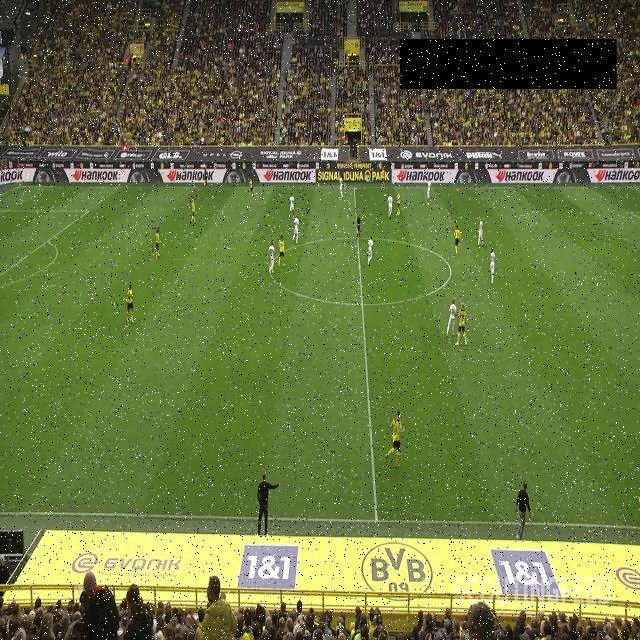Ball: (251, 193, 254, 197)
Referee: (356, 212, 362, 242), (203, 167, 208, 187)
TEAM 1: (386, 410, 406, 468), (454, 302, 468, 346), (126, 284, 135, 324), (278, 234, 286, 267), (454, 223, 461, 255), (155, 227, 161, 261), (190, 196, 197, 225), (248, 176, 256, 196), (380, 166, 386, 191), (396, 190, 401, 216)
TEAM 2: (445, 299, 457, 339), (266, 241, 276, 274), (488, 247, 496, 286), (476, 215, 484, 248), (292, 214, 300, 244), (367, 236, 374, 266), (386, 193, 394, 219), (288, 193, 295, 221), (338, 174, 344, 200), (426, 179, 432, 202)
